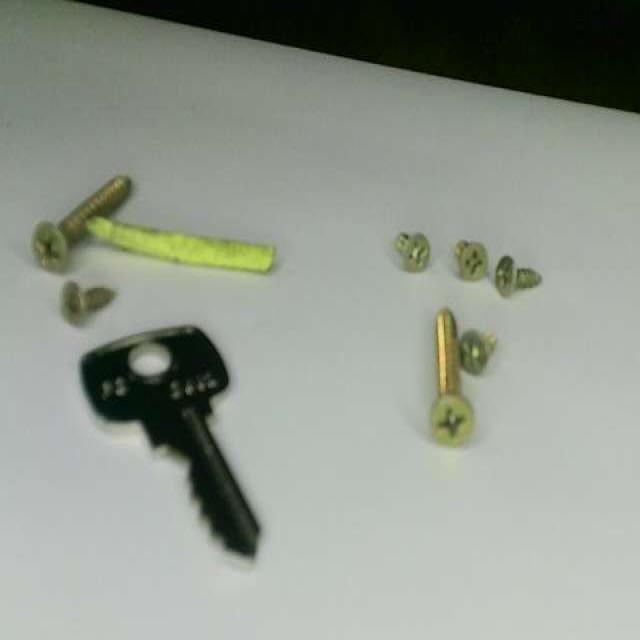Parafuso: (35, 175, 133, 267), (432, 314, 474, 445), (63, 279, 116, 322), (496, 255, 542, 297), (462, 332, 498, 376), (454, 241, 487, 280), (398, 232, 431, 268)
